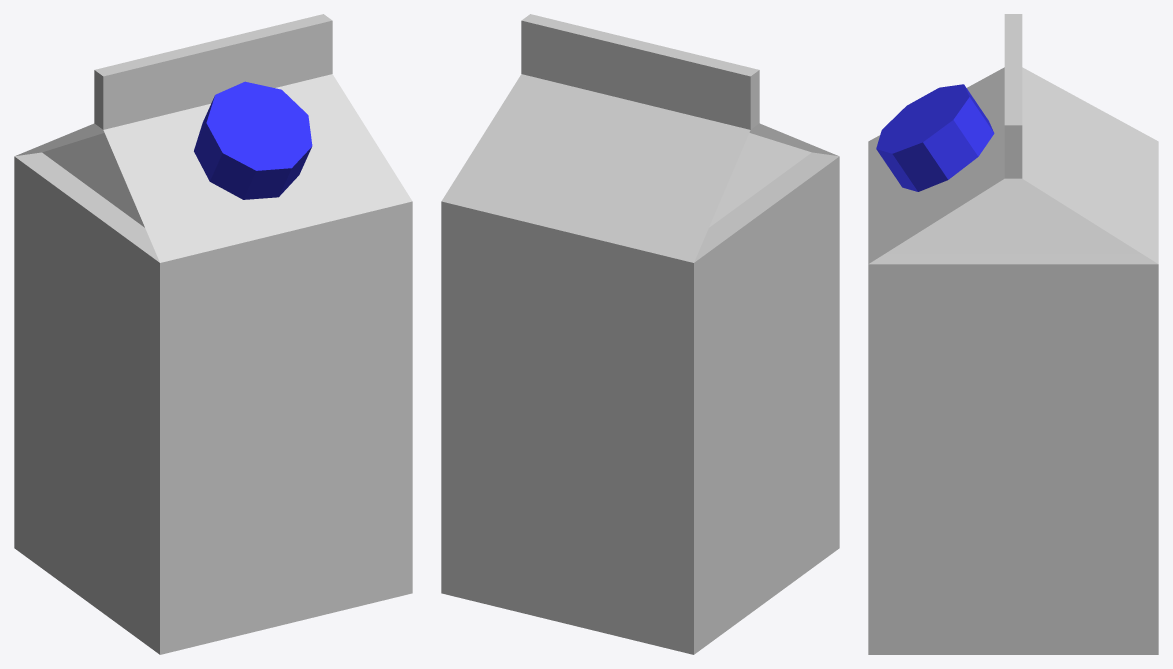
The model's file is milk.fbx.
3 views of the same model, side by side, from view 1: azimuth 30°, elevation 25°; view 2: azimuth 150°, elevation 25°; view 3: azimuth 270°, elevation 25° (orthographic).
Visible parts, largest first — view 1: milk; view 2: milk; view 3: milk.
Boxes of the visible parts, bbox=[...] form: milk: bbox=[14, 14, 412, 654]; milk: bbox=[441, 14, 839, 654]; milk: bbox=[868, 14, 1158, 654].
Bounding box in the file's own units: 1.98 × 3.93 × 1.98.
